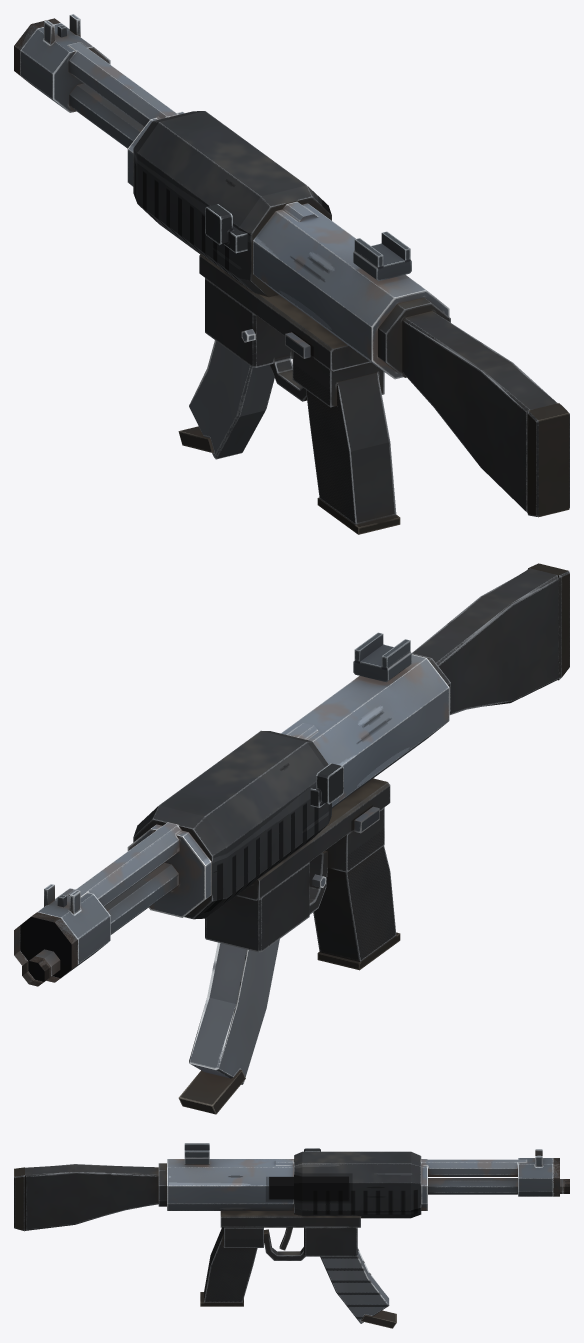
Rendered from Subfusil_Mundo.glb.
3 renders of one model, top to bottom at view 1: azimuth 30°, elevation 25°; view 2: azimuth 150°, elevation 25°; view 3: azimuth 270°, elevation 25°, orthographic. The views are drawn at different scales.
Parts seen in each view (by area): view 1: Handle, Cargador, Palanca; view 2: Handle, Cargador, Palanca; view 3: Handle, Cargador.
Part boxes in pixels (box(x1,y1,x2,y2)): Handle: box(14, 14, 569, 534); Cargador: box(178, 340, 274, 459); Palanca: box(205, 204, 247, 253); Handle: box(14, 563, 569, 986); Cargador: box(178, 939, 279, 1114); Palanca: box(310, 763, 343, 807); Handle: box(14, 1143, 569, 1306); Cargador: box(320, 1247, 396, 1328).
Bounding box in the file's own units: 0.3502 × 1.04 × 2.97.
1 material, 1 textured.
